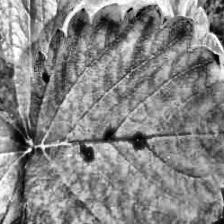Leaf Spot: (22, 3, 224, 224), (0, 0, 102, 144), (0, 105, 81, 224), (194, 0, 224, 82)
